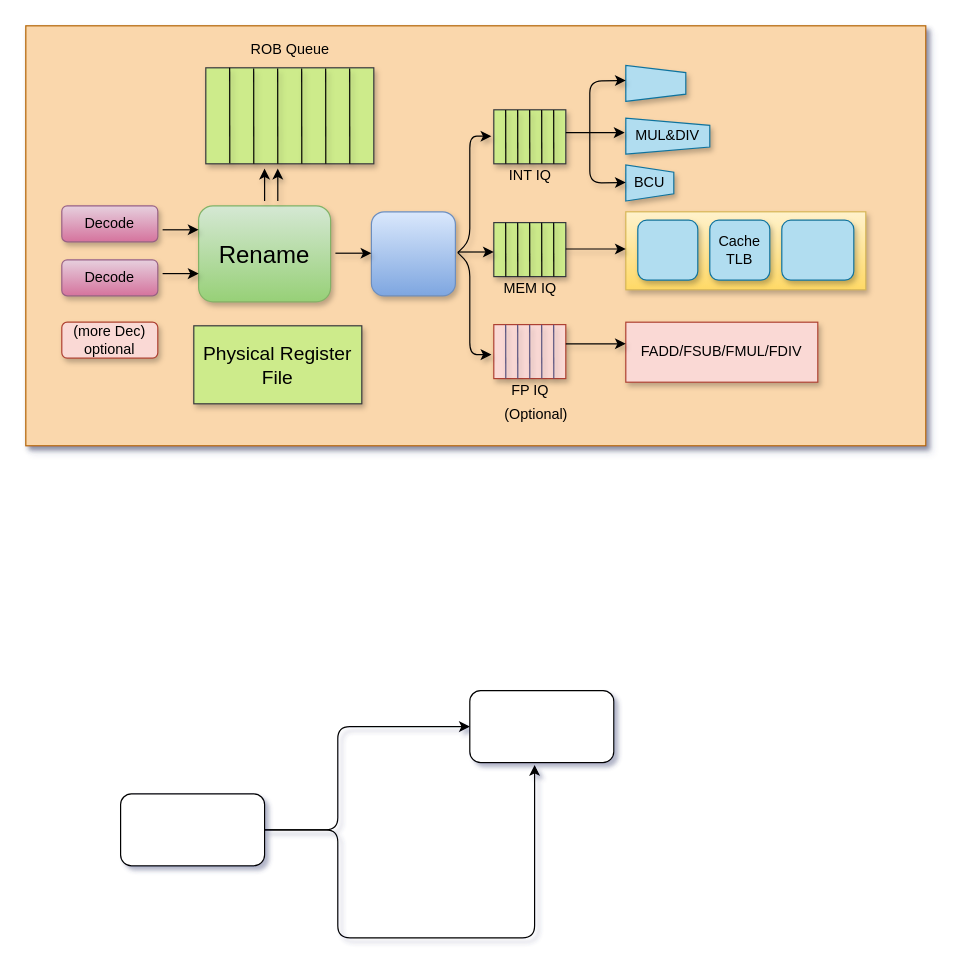
Image size: 961x976. Some labels were removed from this diagram. Each missing label, with the centre of its shape:
2xALU: pixel 656 84
AGU: pixel 668 251
Schedule & Dispatch: pixel 414 255
TAGCMP: pixel 818 251
